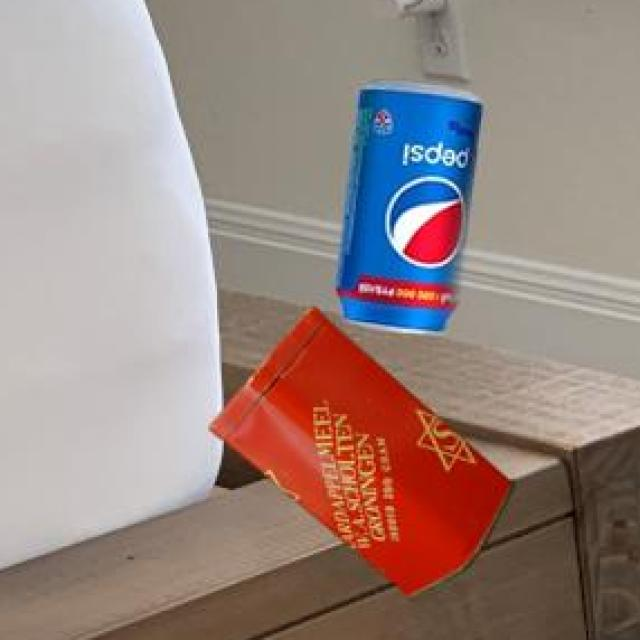logam: (207, 303, 511, 594), (335, 77, 478, 330)
